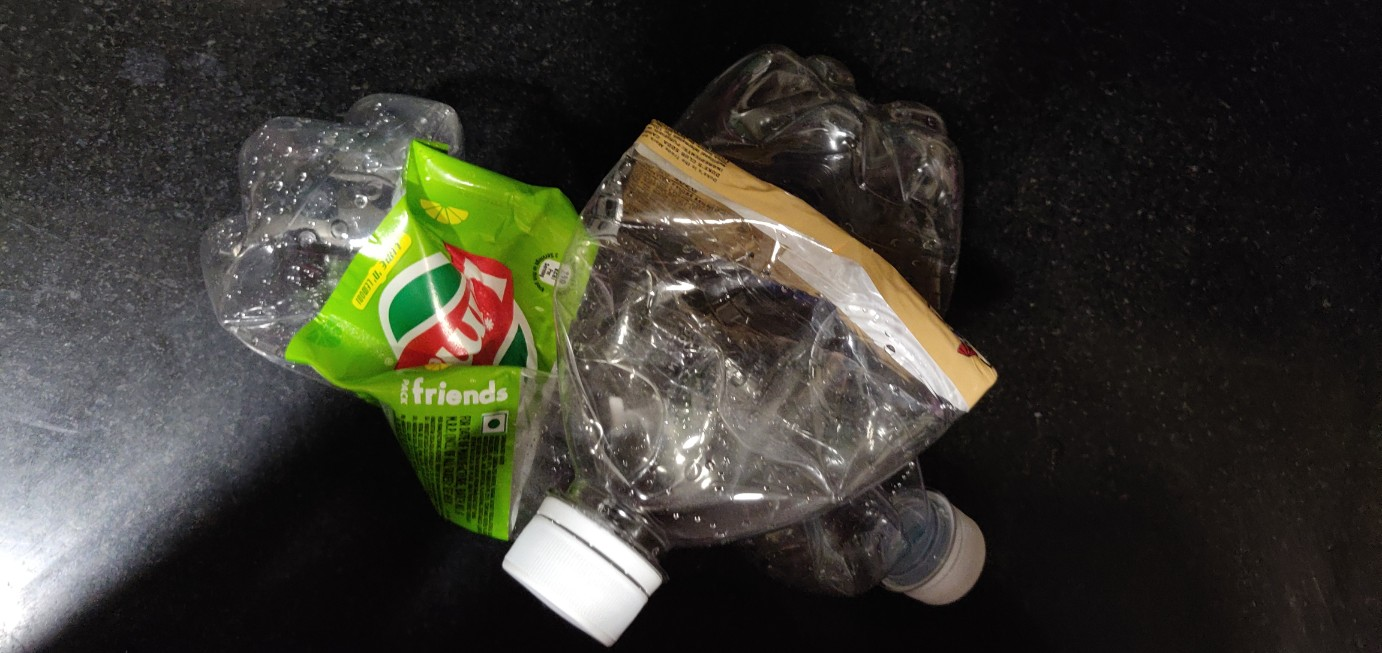Electronics: (179, 72, 991, 635), (481, 26, 1023, 653)
